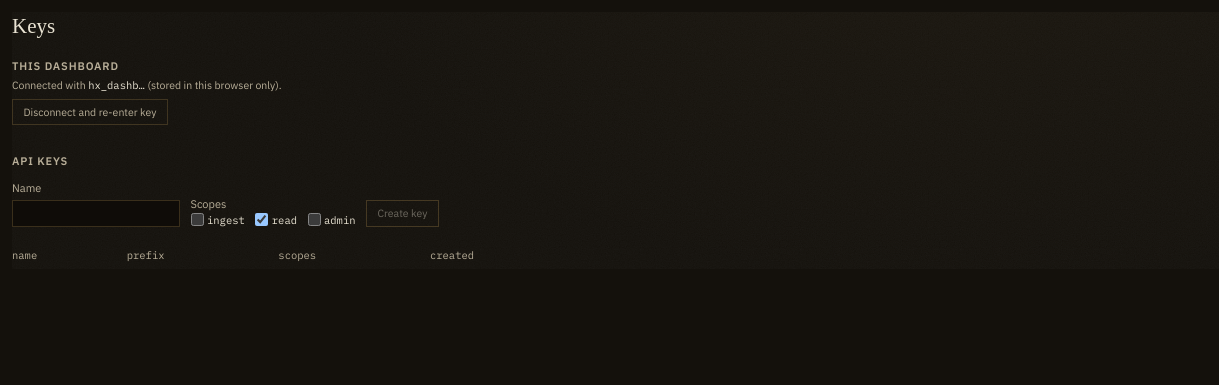
Test: KeysPage › create flow shows the plaintext exactly once
In the field labelled "Name": (96,213) [12,200,180,226], type "ci-reader"
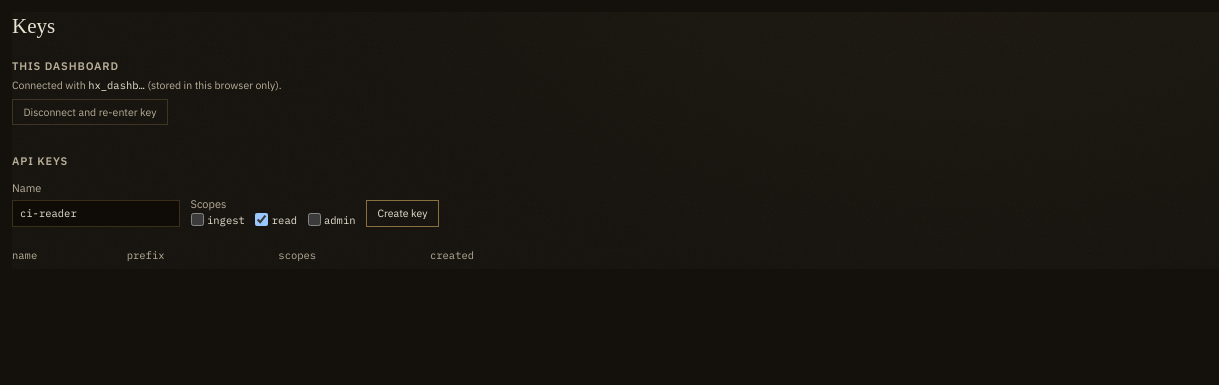
Click the button "Create key": (402,213) [366,200,439,226]
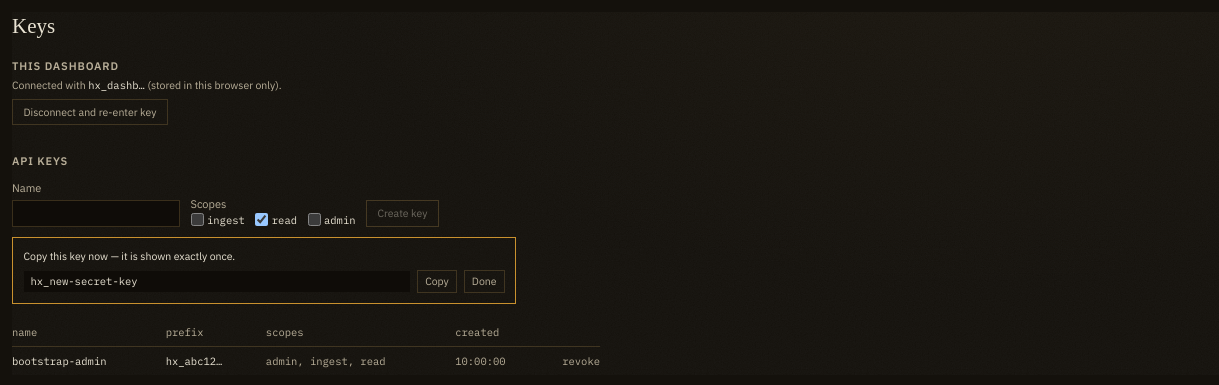
Check: the text "hx_new-secret-key" is shown, box [24,270,410,292]
Check: the text "Copy this key now — it is shown exactly once." is shown, box [24,248,235,262]
Click the button "Done": (484,281) [464,270,504,292]
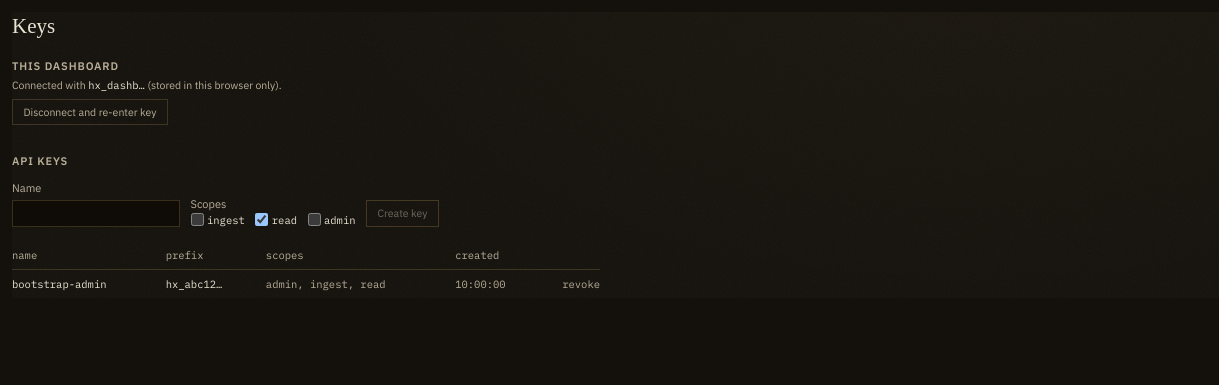
Check: the text "hx_new-secret-key" is gone
